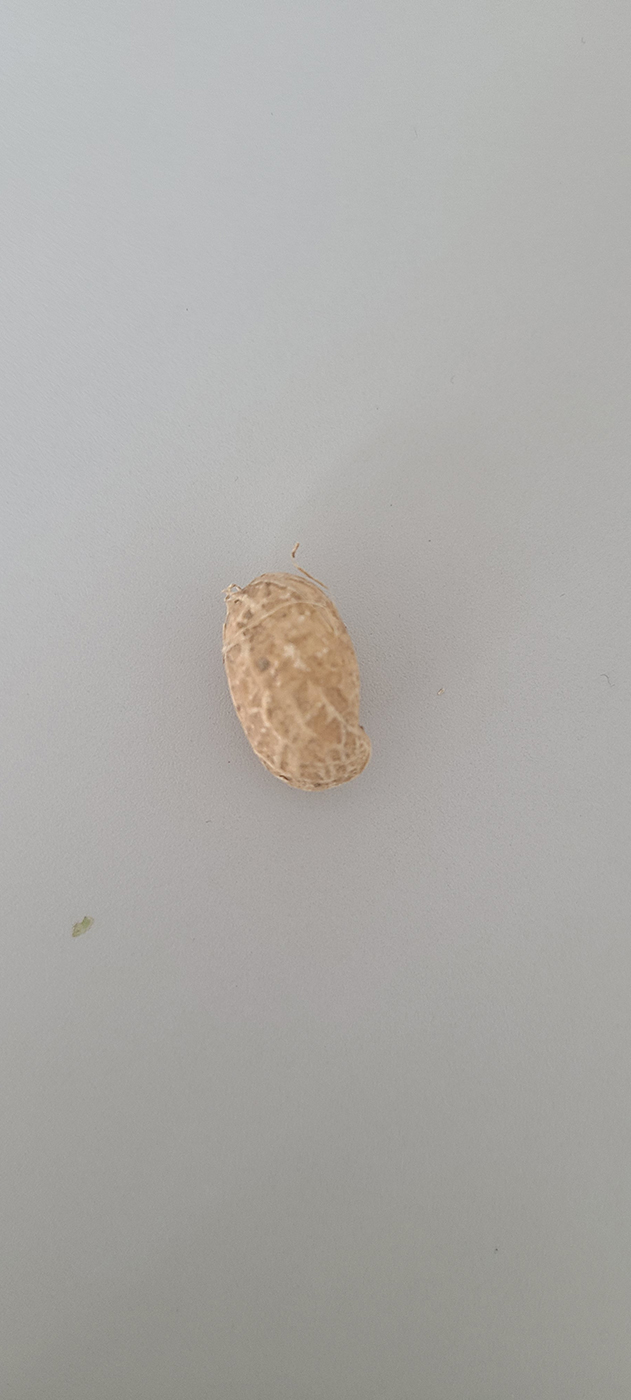h: (223, 573, 371, 795)
